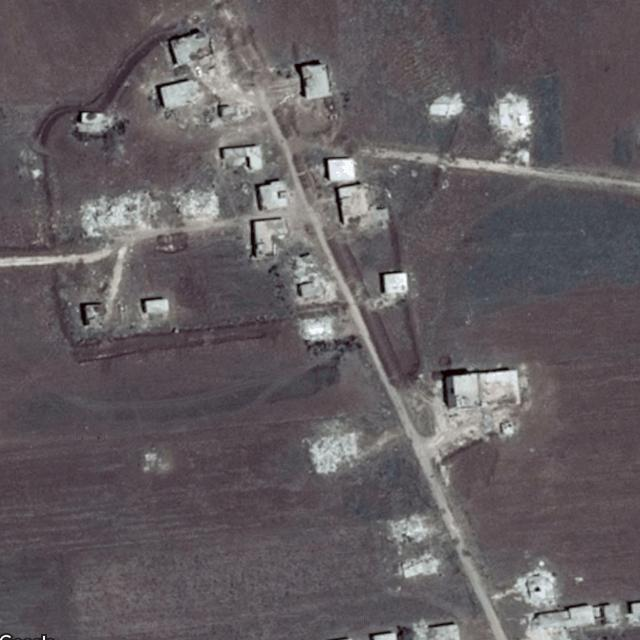damaged_building: (74, 188, 170, 236), (304, 430, 362, 473), (292, 247, 339, 300), (168, 184, 221, 223), (491, 93, 532, 142), (296, 312, 334, 339), (427, 92, 464, 115)
